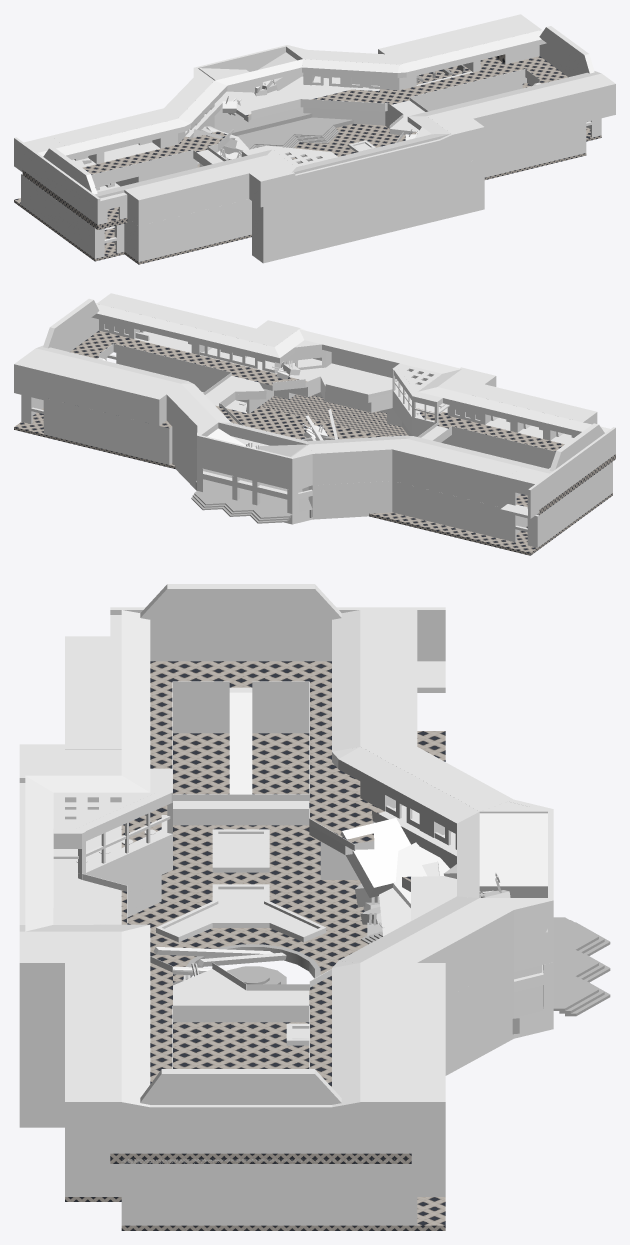
The model's file is main_building.fbx.
3 renders of one model, top to bottom at view 1: azimuth 30°, elevation 25°; view 2: azimuth 150°, elevation 25°; view 3: azimuth 270°, elevation 25°, orthographic. The views are drawn at different scales.
Visible parts, largest first — view 1: Mall Wall Mesh (1), Mall Wall Mesh (1).001, main mall tile Mesh (1), orangemarble Mesh (1), floortiles, mall_tiles Mesh (1); view 2: Mall Wall Mesh (1), Mall Wall Mesh (1).001, floortiles, main mall tile Mesh (1), orangemarble Mesh (1); view 3: Mall Wall Mesh (1), Mall Wall Mesh (1).001, floortiles, main mall tile Mesh (1), orangemarble Mesh (1), New Material Mesh (1), Escalator Mesh (1), bluemarble Mesh (1).
Boxes of the visible parts, bbox=[...] form: Mall Wall Mesh (1): bbox=[14, 14, 615, 263]; Mall Wall Mesh (1).001: bbox=[21, 30, 601, 261]; main mall tile Mesh (1): bbox=[22, 54, 567, 229]; orangemarble Mesh (1): bbox=[214, 107, 353, 153]; floortiles: bbox=[14, 65, 601, 261]; mall_tiles Mesh (1): bbox=[124, 153, 586, 264]; Mall Wall Mesh (1): bbox=[14, 293, 615, 546]; Mall Wall Mesh (1).001: bbox=[21, 304, 612, 547]; floortiles: bbox=[14, 396, 612, 555]; main mall tile Mesh (1): bbox=[70, 330, 615, 514]; orangemarble Mesh (1): bbox=[191, 472, 312, 523]; Mall Wall Mesh (1): bbox=[19, 584, 553, 1163]; Mall Wall Mesh (1).001: bbox=[19, 610, 553, 1225]; floortiles: bbox=[121, 731, 445, 1230]; main mall tile Mesh (1): bbox=[110, 661, 411, 1163]; orangemarble Mesh (1): bbox=[361, 917, 610, 1034]; New Material Mesh (1): bbox=[165, 834, 317, 1037]; Escalator Mesh (1): bbox=[229, 692, 252, 794]; bluemarble Mesh (1): bbox=[184, 944, 320, 984].
Bounding box in the file's own units: 20600 × 3700 × 10400.
